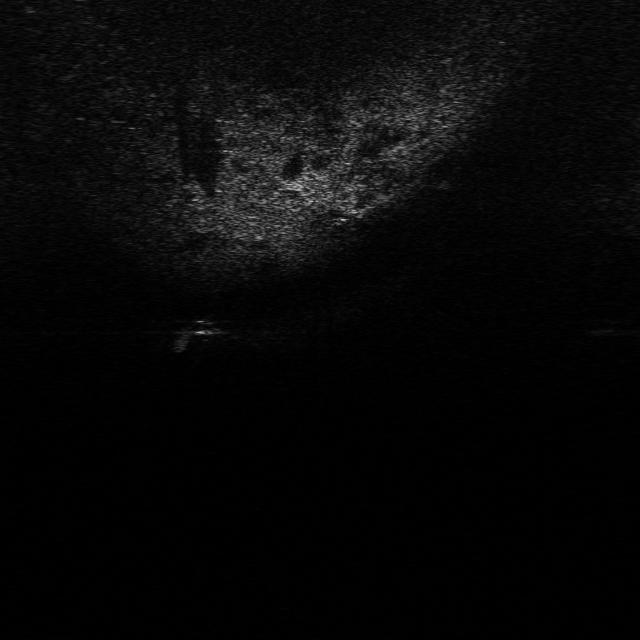cube: (184, 313, 224, 338)
cylinder: (168, 327, 193, 353)
